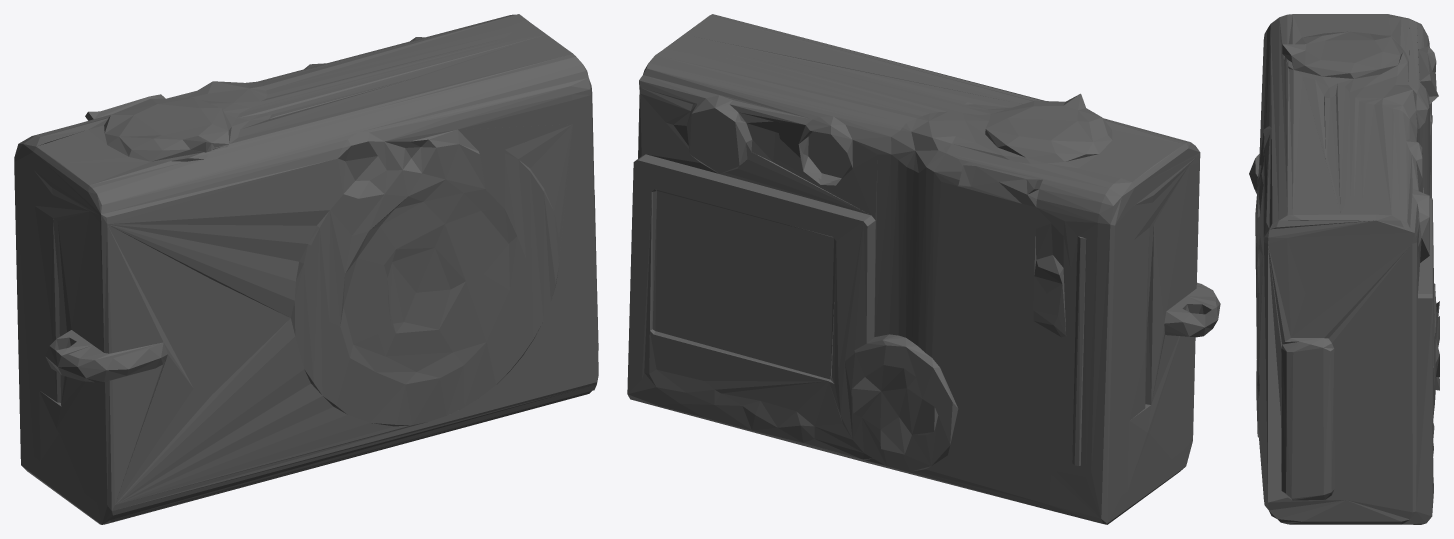
Rendered from model_align.obj.
3 renders of one model, left to right at view 1: azimuth 30°, elevation 25°; view 2: azimuth 150°, elevation 25°; view 3: azimuth 270°, elevation 25°, orthographic. The views are drawn at different scales.
Bounding box in the file's own units: 0.1291 × 0.0823 × 0.0438.
